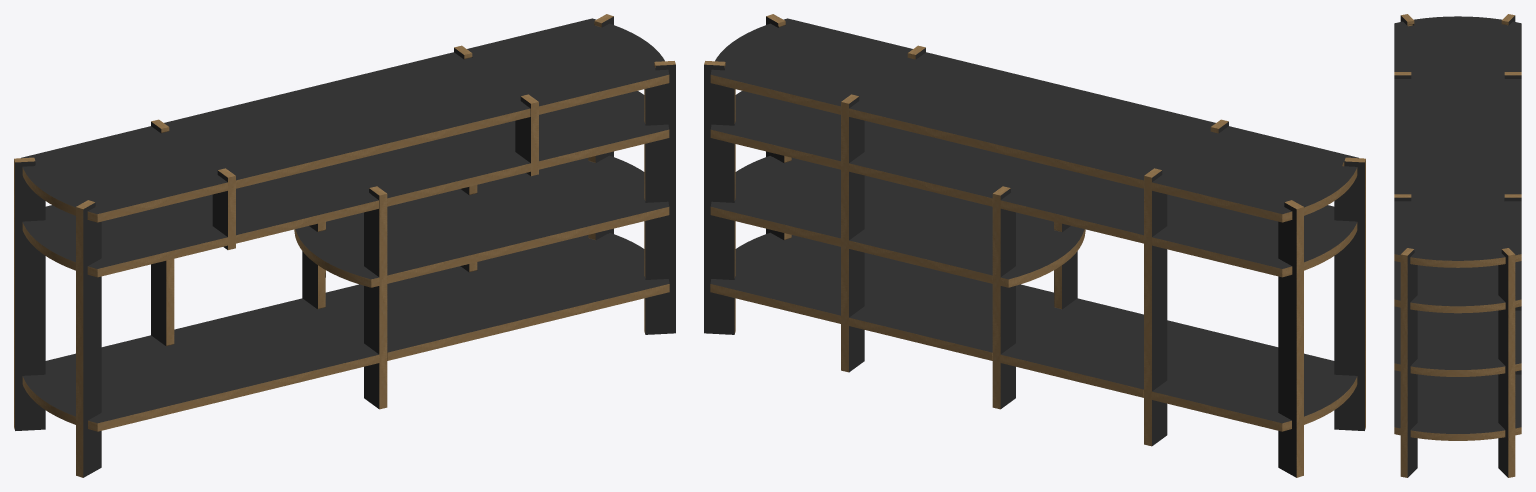
File: NODO_RACK_CUARZO_V3.glb
3 renders of one model, left to right at view 1: azimuth 30°, elevation 25°; view 2: azimuth 150°, elevation 25°; view 3: azimuth 270°, elevation 25°, orthographic. The views are drawn at different scales.
Visible parts, largest first — view 1: A_KIRI, C_KIRI, B_KIRI, D_KIRI, G_right_front_KIRI, F_left_rear_KIRI, F_left_front_KIRI, H_front_KIRI, F_rear_KIRI, E_front_R_KIRI, E_front_L_KIRI, H_rear_KIRI; view 2: A_KIRI, C_KIRI, B_KIRI, D_KIRI, G_right_rear_KIRI, F_left_front_KIRI, F_left_rear_KIRI, F_rear_KIRI, G_rear_KIRI, H_rear_KIRI, H_front_KIRI; view 3: A_KIRI, C_KIRI, D_KIRI, B_KIRI, G_right_front_KIRI, G_right_rear_KIRI, G_rear_KIRI.
Part boxes in pixels (x1,y1,x2,y2): A_KIRI: (21, 18, 669, 222); C_KIRI: (22, 233, 669, 431); B_KIRI: (22, 91, 669, 277); D_KIRI: (294, 155, 669, 287); G_right_front_KIRI: (644, 61, 675, 334); F_left_rear_KIRI: (14, 157, 45, 430); F_left_front_KIRI: (76, 200, 101, 477); H_front_KIRI: (364, 186, 387, 409); F_rear_KIRI: (151, 119, 174, 346); E_front_R_KIRI: (515, 94, 538, 176); E_front_L_KIRI: (212, 168, 235, 249); H_rear_KIRI: (302, 221, 325, 309); A_KIRI: (710, 18, 1358, 222); C_KIRI: (710, 232, 1357, 431); B_KIRI: (710, 91, 1357, 277); D_KIRI: (710, 156, 1085, 287); G_right_rear_KIRI: (704, 61, 735, 334); F_left_front_KIRI: (1334, 157, 1365, 430); F_left_rear_KIRI: (1278, 200, 1303, 477); F_rear_KIRI: (1144, 168, 1167, 446); G_rear_KIRI: (841, 94, 864, 372); H_rear_KIRI: (992, 186, 1015, 409); H_front_KIRI: (1054, 221, 1077, 309); A_KIRI: (1394, 16, 1521, 267); C_KIRI: (1394, 370, 1521, 440); D_KIRI: (1394, 306, 1521, 376); B_KIRI: (1394, 261, 1521, 313); G_right_front_KIRI: (1400, 248, 1417, 477); G_right_rear_KIRI: (1498, 248, 1515, 477); G_rear_KIRI: (1504, 194, 1521, 374).
Bounding box in the file's own units: 1.36 × 0.578 × 0.3.
2 materials, 2 textured.
